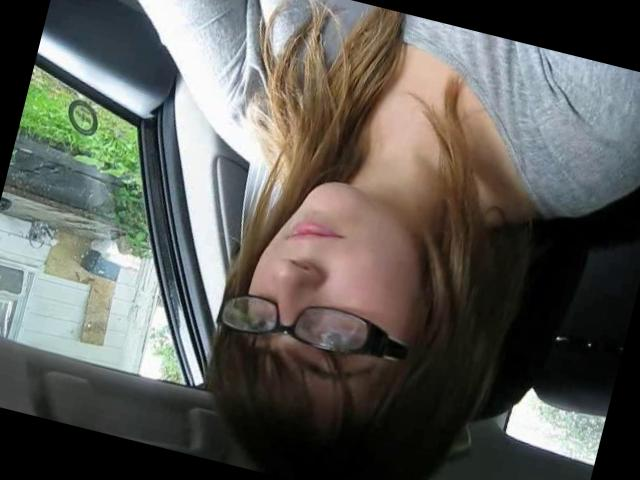eye_open: (300, 310, 375, 368)
face: (224, 164, 446, 404)
